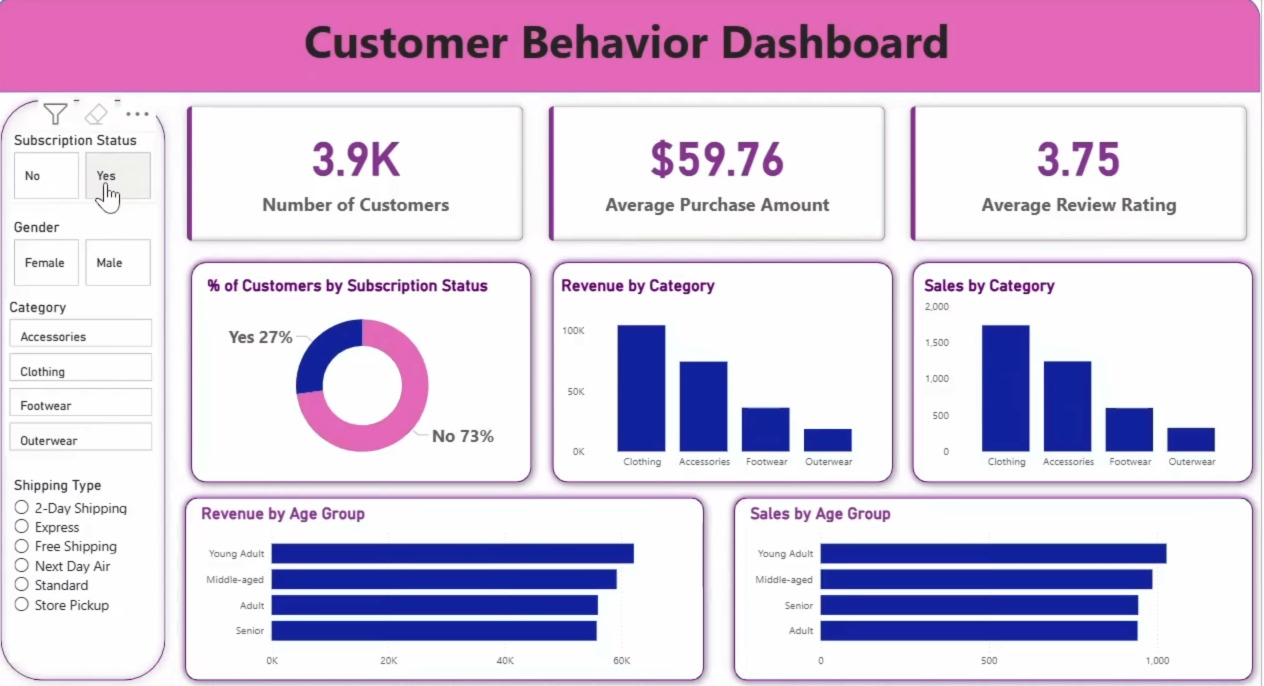

The dashboard page shown, as its layout file describes it:
{"tool":"powerbi","page":{"name":"Page 1","canvas":[1280,720],"ordinal":0},"visuals":[{"type":"cardVisual","fields":{"Data":["public customer.Number of Customer","public customer.Average Purchase Amount","public customer.Average Review rating"]},"box":[199,91.9,1081.3,163.3],"z":0},{"type":"shape","box":[0,0,1280.3,91.9],"z":1000},{"type":"textbox","box":[93.3,0,1023.7,91.9],"z":2000},{"type":"donutChart","title":"% of Customer by Subscription  Status","fields":{"Category":["public customer.subscription_status"],"Y":["CountNonNull(public customer.customer_id)"]},"box":[199,275.8,348.5,236],"z":3000},{"type":"clusteredColumnChart","title":"Revenue by Category","fields":{"Y":["Sum(public customer.purchase_amount_usd)"],"Category":["public customer.category"]},"box":[584.6,275.8,299.1,236],"z":4000},{"type":"clusteredColumnChart","title":"Sales by Category ","fields":{"Y":["CountNonNull(public customer.customer_id)"],"Category":["public customer.category"]},"box":[904.3,275.8,376,236],"z":5000},{"type":"advancedSlicerVisual","title":"subscription Status","fields":{"Values":["public customer.subscription_status"]},"box":[6.9,108.4,171.5,87.8],"z":6000},{"type":"advancedSlicerVisual","title":"Gender","fields":{"Values":["public customer.gender"]},"box":[0,196.2,178.4,83.7],"z":6001},{"type":"advancedSlicerVisual","title":"Category","fields":{"Values":["public customer.category"]},"box":[0,297.8,178.4,190.7],"z":6002},{"type":"listSlicer","title":"Shipping type","fields":{"Values":["public customer.shipping_type"]},"box":[6.9,511.8,164.7,208.6],"z":6003},{"type":"clusteredBarChart","title":"Revenue by Age_group","fields":{"Y":["Sum(public customer.purchase_amount_usd)"],"Category":["public customer.age_group"]},"box":[199,511.8,540.7,208.6],"z":6004},{"type":"clusteredBarChart","title":"Sales by Age_group","fields":{"Y":["CountNonNull(public customer.customer_id)"],"Category":["public customer.age_group"]},"box":[740,512,540,208],"z":6005}]}

Visuals, with their boxes on the page's 1280x720 design canvas (x1, y1, x2, y2). These are canvas units, not pixel positions in the 1264x686 screenshot, which may show the page scaled, cropped or inside an application window:
cardVisual - public customer.Number of Customer x public customer.Average Purchase Amount: Rect(199, 92, 1280, 255)
shape: Rect(0, 0, 1280, 92)
textbox: Rect(93, 0, 1117, 92)
"% of Customer by Subscription  Status" donutChart: Rect(199, 276, 548, 512)
"Revenue by Category" clusteredColumnChart: Rect(585, 276, 884, 512)
"Sales by Category " clusteredColumnChart: Rect(904, 276, 1280, 512)
"subscription Status" advancedSlicerVisual: Rect(7, 108, 178, 196)
"Gender" advancedSlicerVisual: Rect(0, 196, 178, 280)
"Category" advancedSlicerVisual: Rect(0, 298, 178, 488)
"Shipping type" listSlicer: Rect(7, 512, 172, 720)
"Revenue by Age_group" clusteredBarChart: Rect(199, 512, 740, 720)
"Sales by Age_group" clusteredBarChart: Rect(740, 512, 1280, 720)
